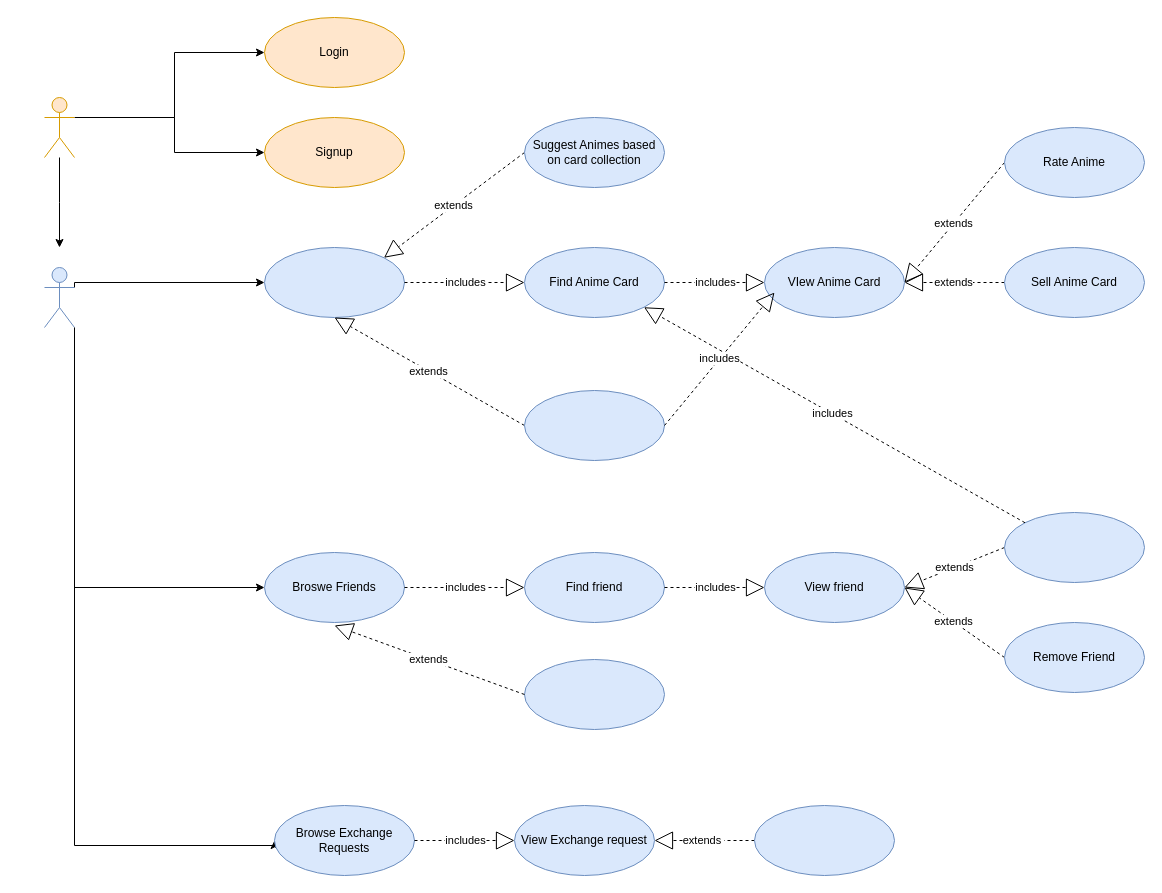
This 1162x893 diagram has some shape labels left out. Each missing label, with the centre of its shape:
"Accept/discard request" goes at pixel 824 840.
"Add Friend" goes at pixel 594 694.
"Broswe Anime Card Collection" goes at pixel 334 282.
"Logged User" goes at pixel 59 297.
"Open pack" goes at pixel 594 425.
"Propose Exchange Requests" goes at pixel 1074 547.
"Unlogged User" goes at pixel 59 127.
